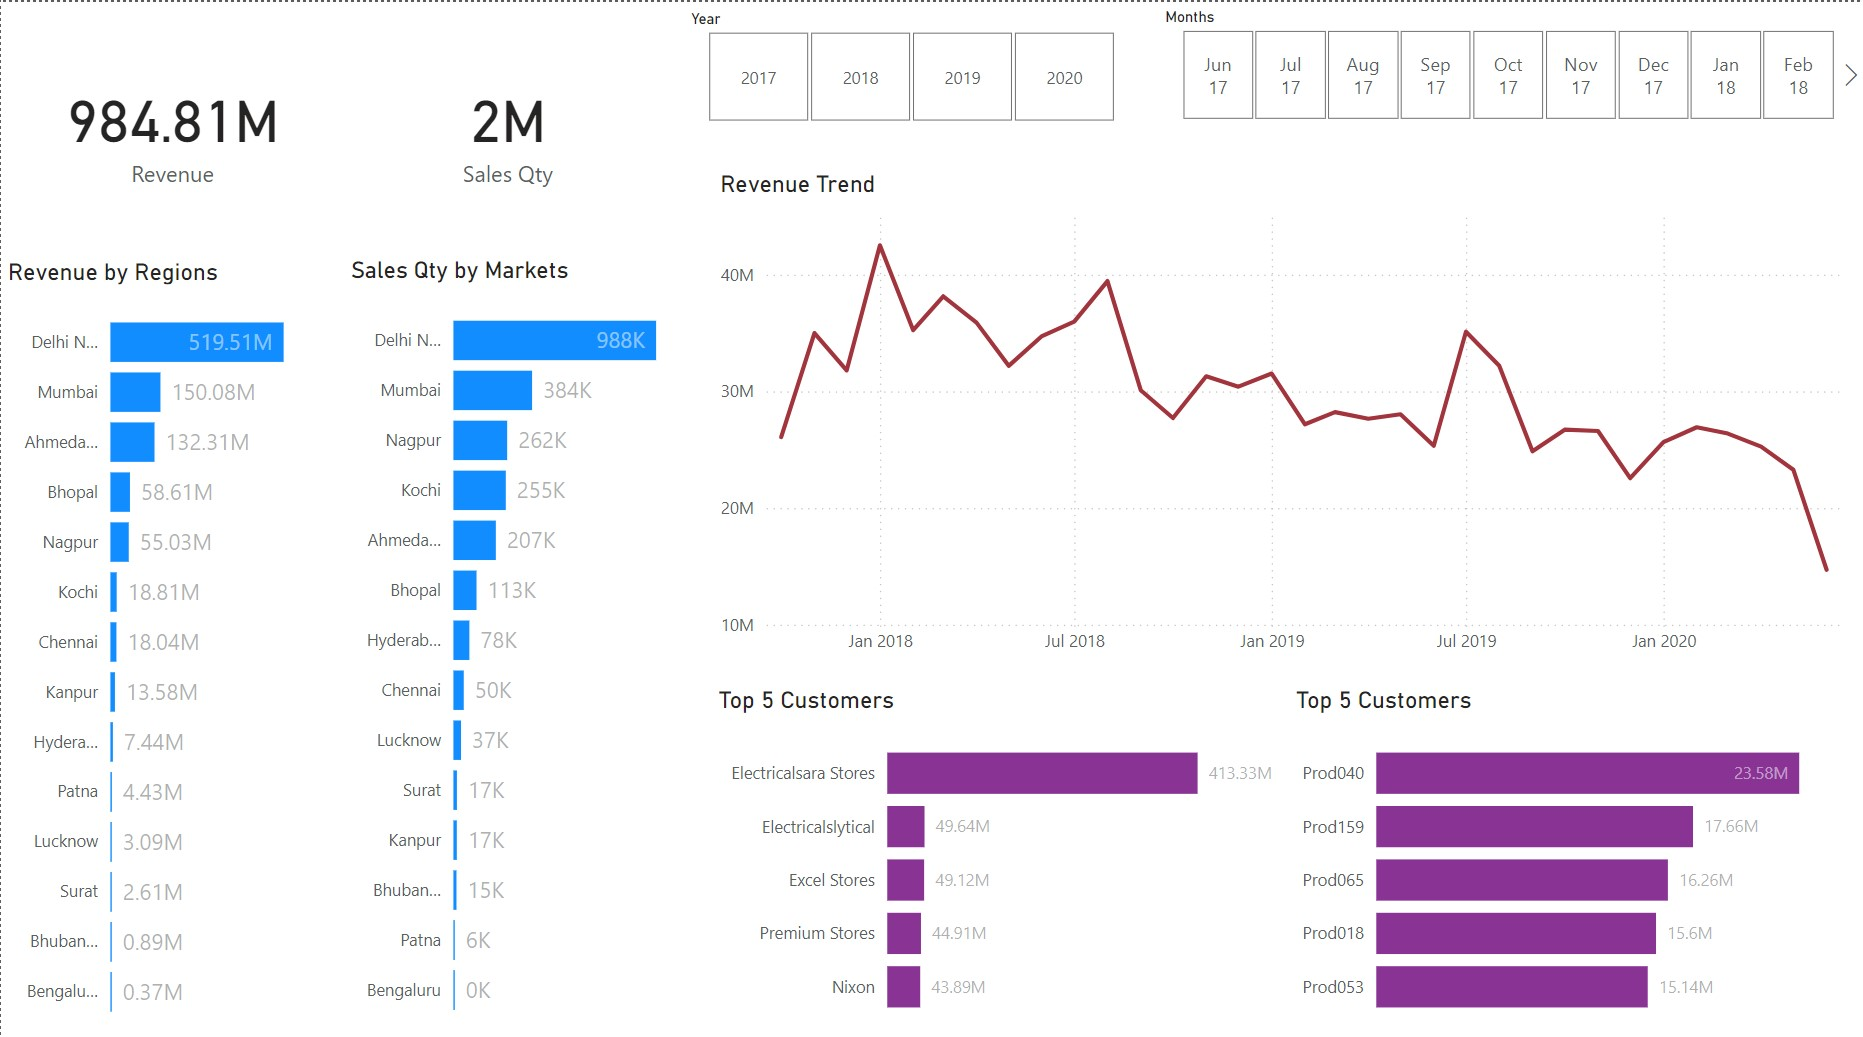

The dashboard page shown, as its layout file describes it:
{"tool":"powerbi","page":{"name":"Initial insight","canvas":[1350,750],"ordinal":0},"visuals":[{"type":"card","fields":{"Values":["BaseMeasures.Revenue"]},"box":[0,0,248.1,186.1],"z":0},{"type":"card","fields":{"Values":["BaseMeasures.Sales Qty"]},"box":[248.1,0,236.7,186.1],"z":1000},{"type":"barChart","title":"Revenue by Regions","fields":{"Y":["BaseMeasures.Revenue"],"Category":["sales markets.markets_name"]},"box":[0,186.1,264.6,564.6],"z":2000},{"type":"barChart","title":"Sales Qty by Markets","fields":{"Y":["BaseMeasures.Sales Qty"],"Category":["sales markets.markets_name"]},"box":[248.1,184.8,265.9,564.6],"z":3000},{"type":"slicer","fields":{"Values":["sales date.year"]},"box":[486.1,1.3,343.1,92.4],"z":4000},{"type":"slicer","fields":{"Values":["sales date.cy_date"]},"box":[829.2,0,520.3,92.4],"z":5000},{"type":"barChart","title":"Top 5 Customers","fields":{"Y":["BaseMeasures.Revenue"],"Category":["sales customers.custmer_name"]},"box":[514,496.3,417.8,253.2],"z":6000},{"type":"lineChart","title":"Revenue Trend","fields":{"Y":["BaseMeasures.Revenue"],"Category":["sales date.cy_date.Variation.Date Hierarchy.Year","sales date.cy_date.Variation.Date Hierarchy.Quarter","sales date.cy_date.Variation.Date Hierarchy.Month","sales date.cy_date.Variation.Date Hierarchy.Day"]},"box":[515.3,122.8,834.3,358.3],"z":7000},{"type":"barChart","title":"Top 5 products","fields":{"Y":["BaseMeasures.Revenue"],"Category":["sales products.product_code"]},"box":[931.8,496.3,417.8,253.2],"z":8000}]}

Visuals, with their boxes in screenshot pixels (x1, y1, x2, y2), scaled from the page's 1350x750 canvas onto the 1863x1037 screenshot:
card - BaseMeasures.Revenue: bbox=(0, 0, 342, 257)
card - BaseMeasures.Sales Qty: bbox=(342, 0, 669, 257)
"Revenue by Regions" barChart: bbox=(0, 257, 365, 1036)
"Sales Qty by Markets" barChart: bbox=(342, 256, 709, 1036)
slicer - sales date.year: bbox=(671, 2, 1144, 130)
slicer - sales date.cy_date: bbox=(1144, 0, 1862, 128)
"Top 5 Customers" barChart: bbox=(709, 686, 1286, 1036)
"Revenue Trend" lineChart: bbox=(711, 170, 1862, 665)
"Top 5 products" barChart: bbox=(1286, 686, 1862, 1036)
